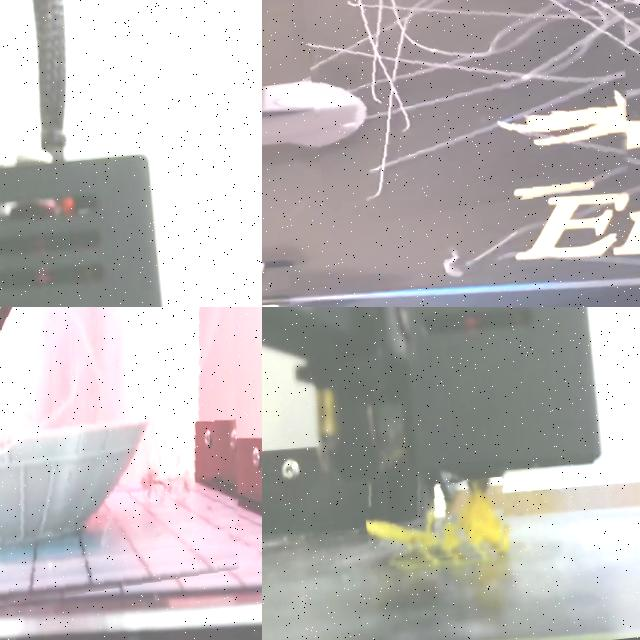spaghetti: (0, 307, 262, 627), (284, 0, 640, 231), (366, 478, 504, 561)
